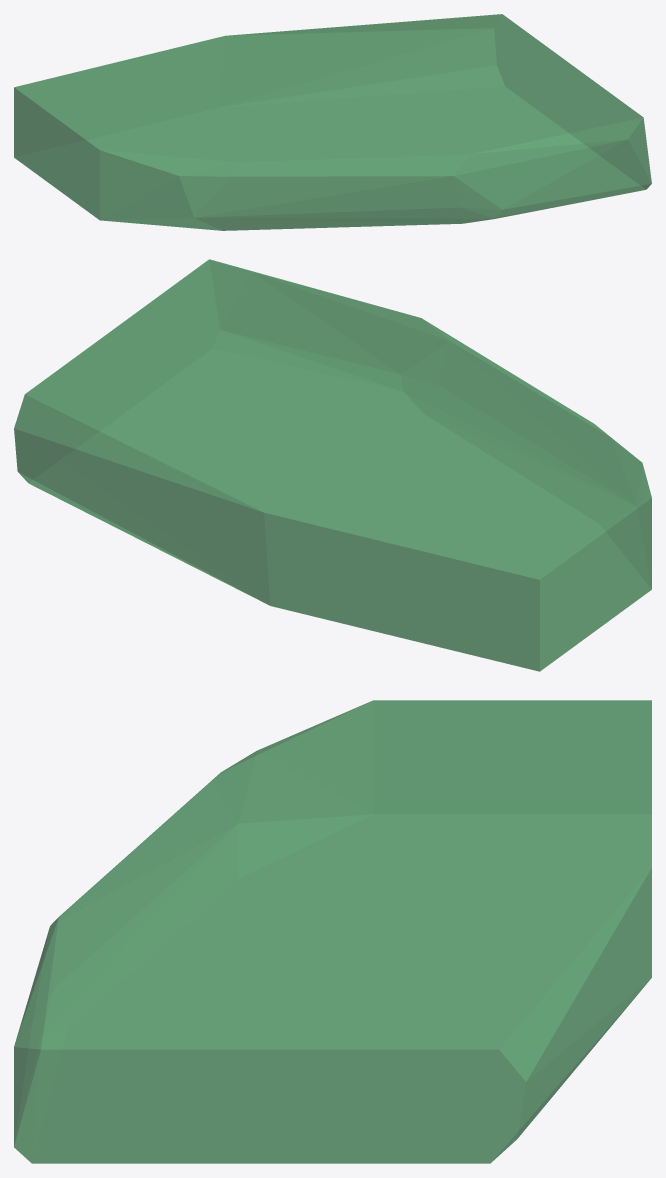
The picture shows the model from 3 angles, top to bottom: view 1: azimuth 30°, elevation 25°; view 2: azimuth 150°, elevation 25°; view 3: azimuth 270°, elevation 25°; orthographic projection. The views are drawn at different scales.
Visible parts, largest first — view 1: Shape_IndexedFaceSet.008_Shape_IndexedFaceSet.17160; view 2: Shape_IndexedFaceSet.008_Shape_IndexedFaceSet.17160; view 3: Shape_IndexedFaceSet.008_Shape_IndexedFaceSet.17160.
Part boxes in pixels (x1,y1,x2,y2): Shape_IndexedFaceSet.008_Shape_IndexedFaceSet.17160: [14, 14, 651, 230]; Shape_IndexedFaceSet.008_Shape_IndexedFaceSet.17160: [14, 259, 651, 671]; Shape_IndexedFaceSet.008_Shape_IndexedFaceSet.17160: [14, 700, 651, 1163].
Size of the model in its own units: 0.1557 by 0.0237 by 0.1201.
